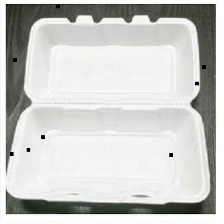foam_box: (5, 10, 213, 210)
